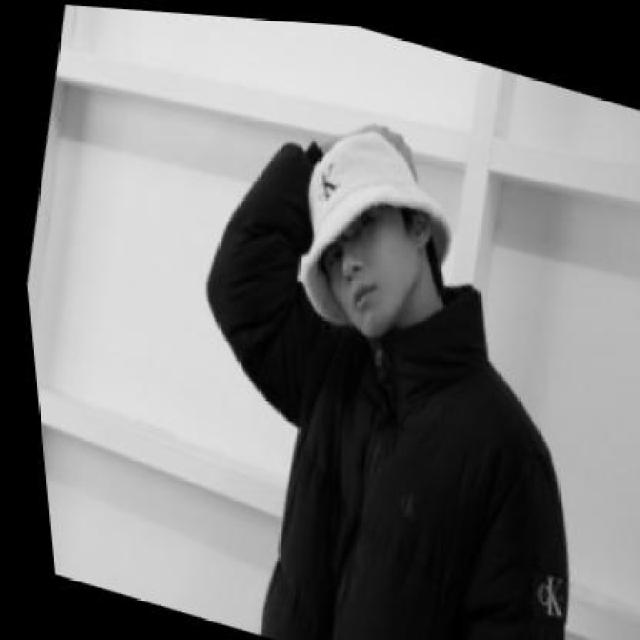hat: (290, 127, 448, 321)
